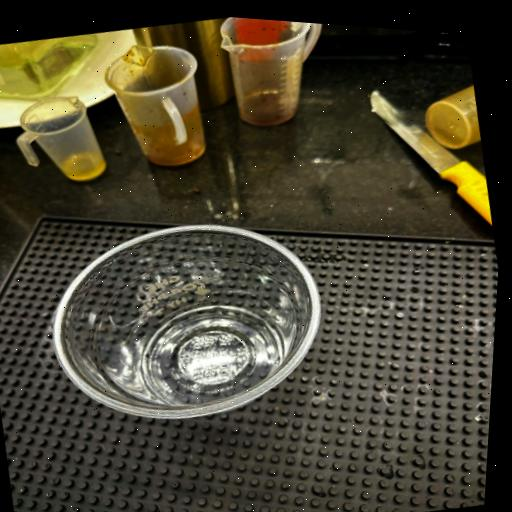ly_nhua: (53, 225, 321, 418)
